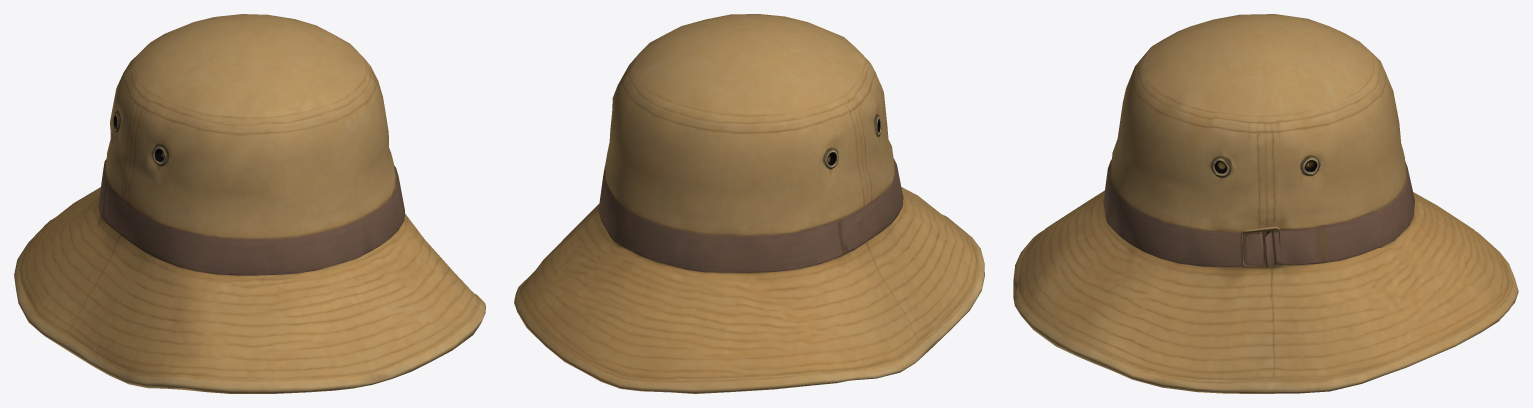
Rendered from hunter-cap-bucket.glb.
The picture shows the model from 3 angles, left to right: view 1: azimuth 30°, elevation 25°; view 2: azimuth 150°, elevation 25°; view 3: azimuth 270°, elevation 25°; orthographic projection.
Visible parts, largest first — view 1: geometry_0; view 2: geometry_0; view 3: geometry_0.
Boxes of the visible parts, left/top/right/bottom form: geometry_0: left=14, top=14, right=485, bottom=393; geometry_0: left=514, top=14, right=984, bottom=393; geometry_0: left=1013, top=14, right=1518, bottom=393.
Bounding box in the file's own units: 0.8149 × 0.5771 × 0.9531.
1 material, 1 textured.
